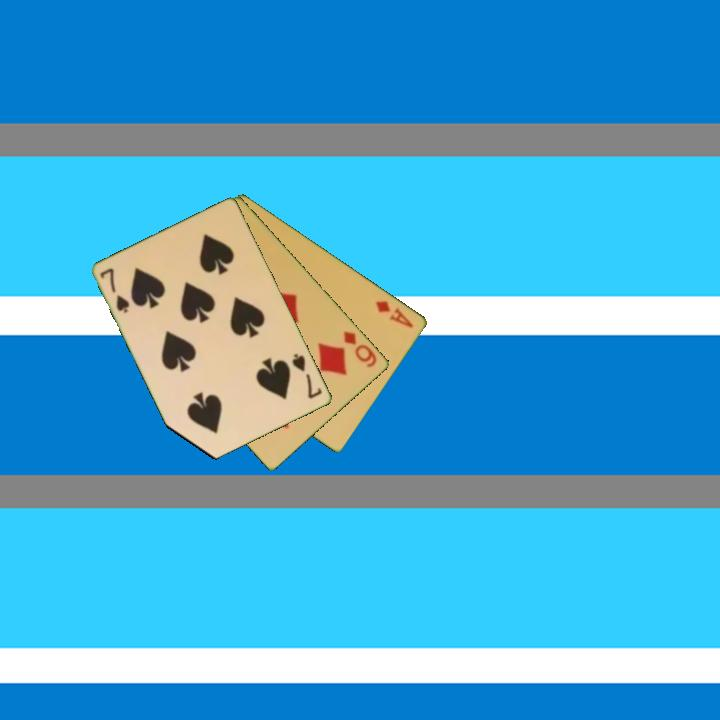6d: (340, 327, 380, 370)
7s: (289, 350, 325, 402), (97, 264, 133, 316)
Ad: (372, 297, 417, 331)
